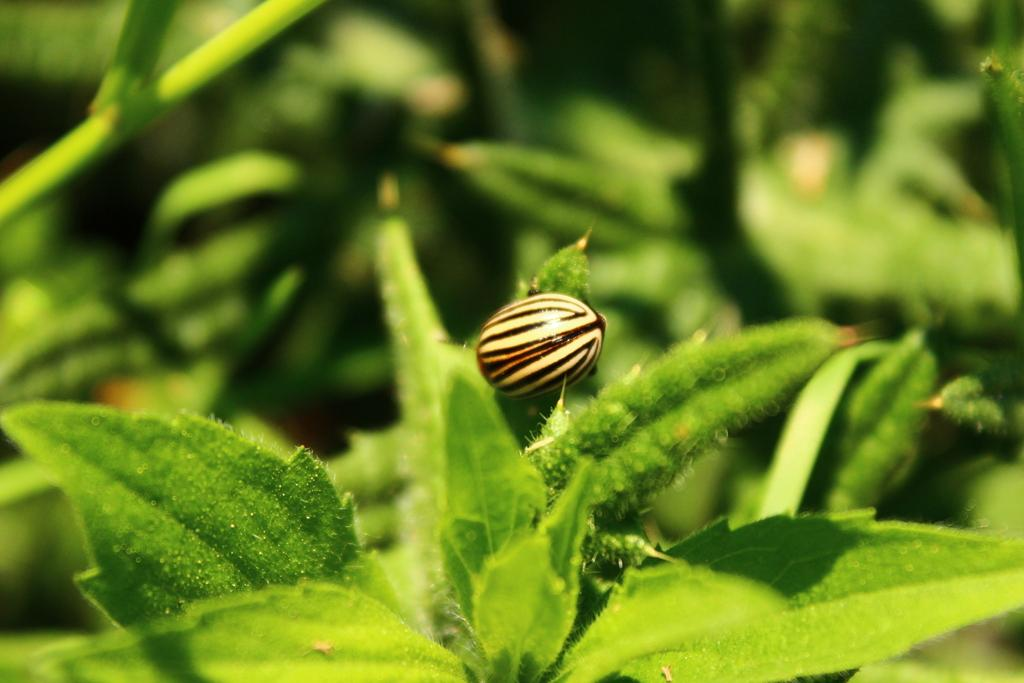potato_beetle: (453, 273, 641, 422)
